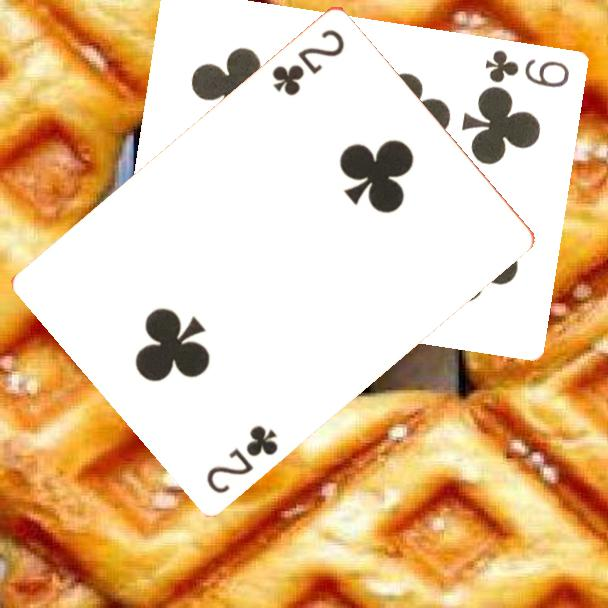c02: (202, 420, 282, 496), (268, 25, 348, 99)
c09: (481, 47, 572, 91)
